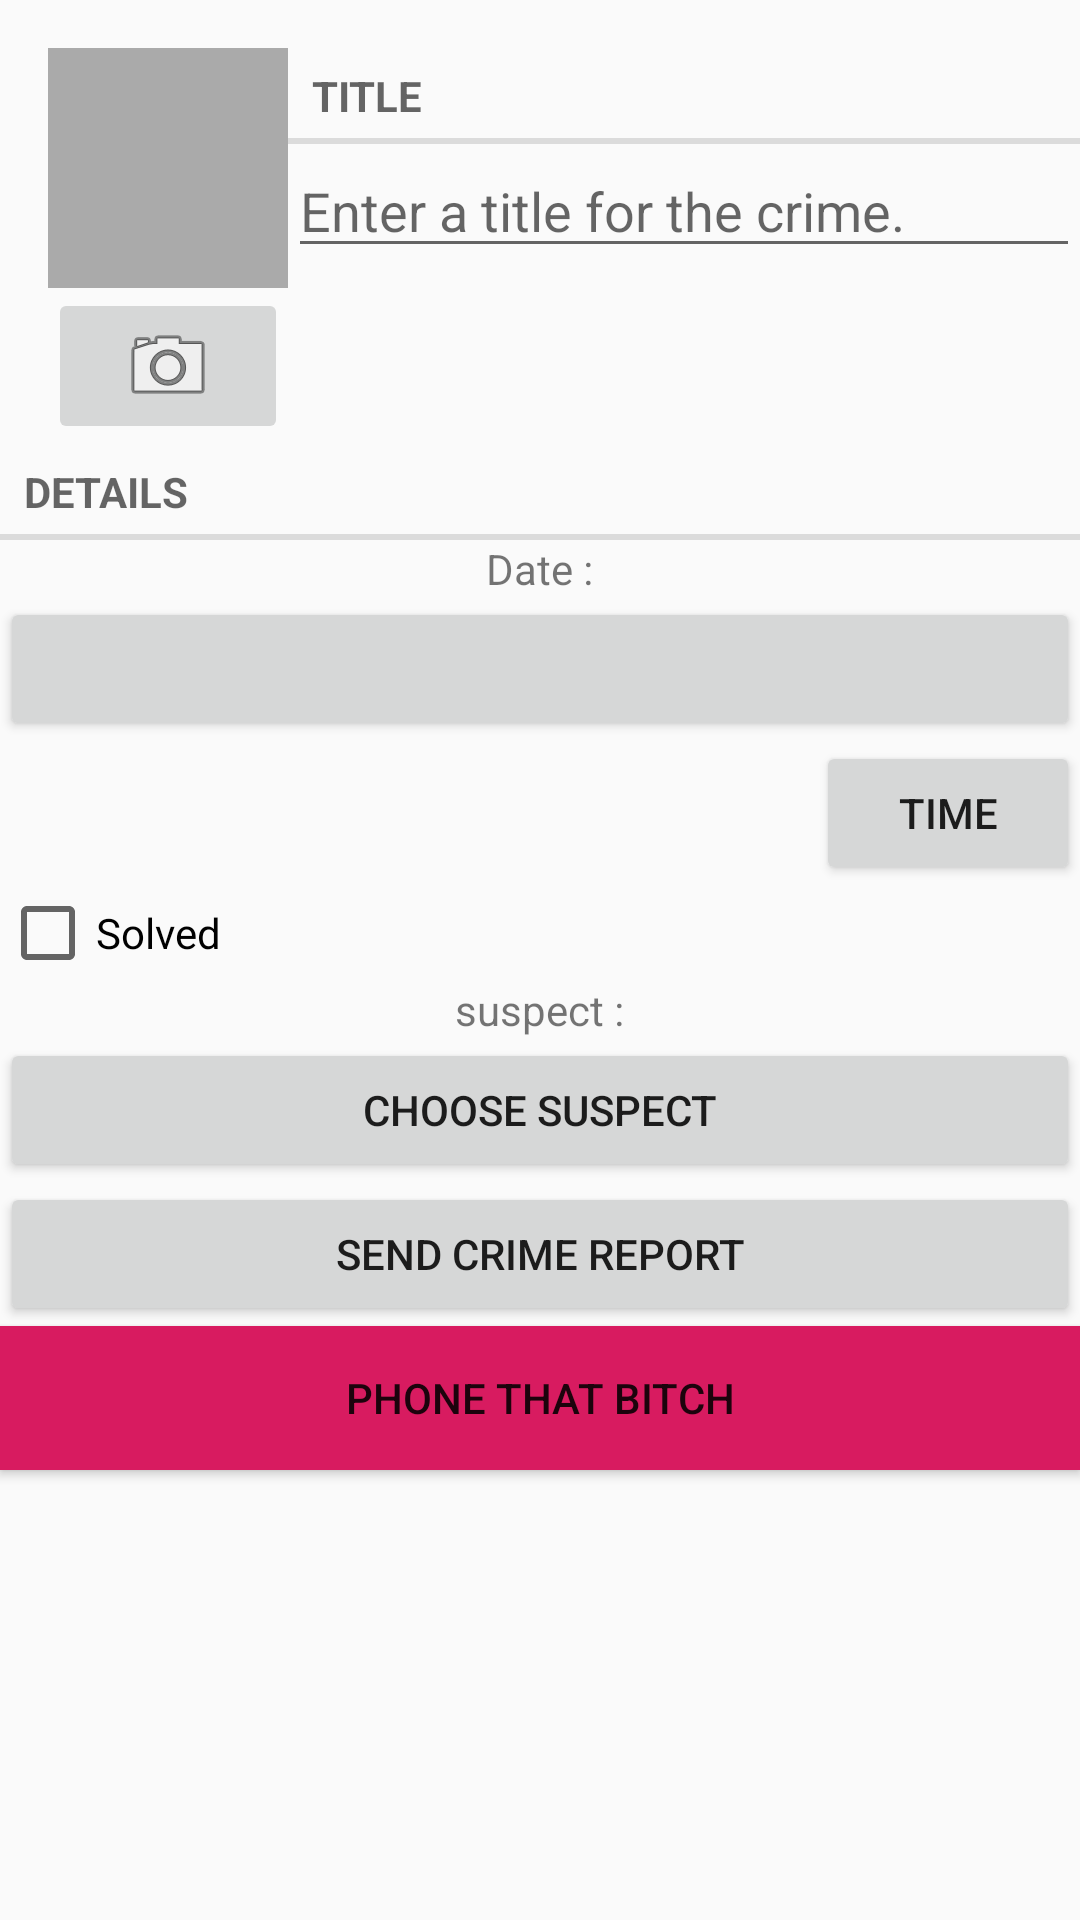

Icons on this 1080 x 1920 Android screen, each with the point to tap as point (x, y):
Take photo of crime scene: point (168, 366)
